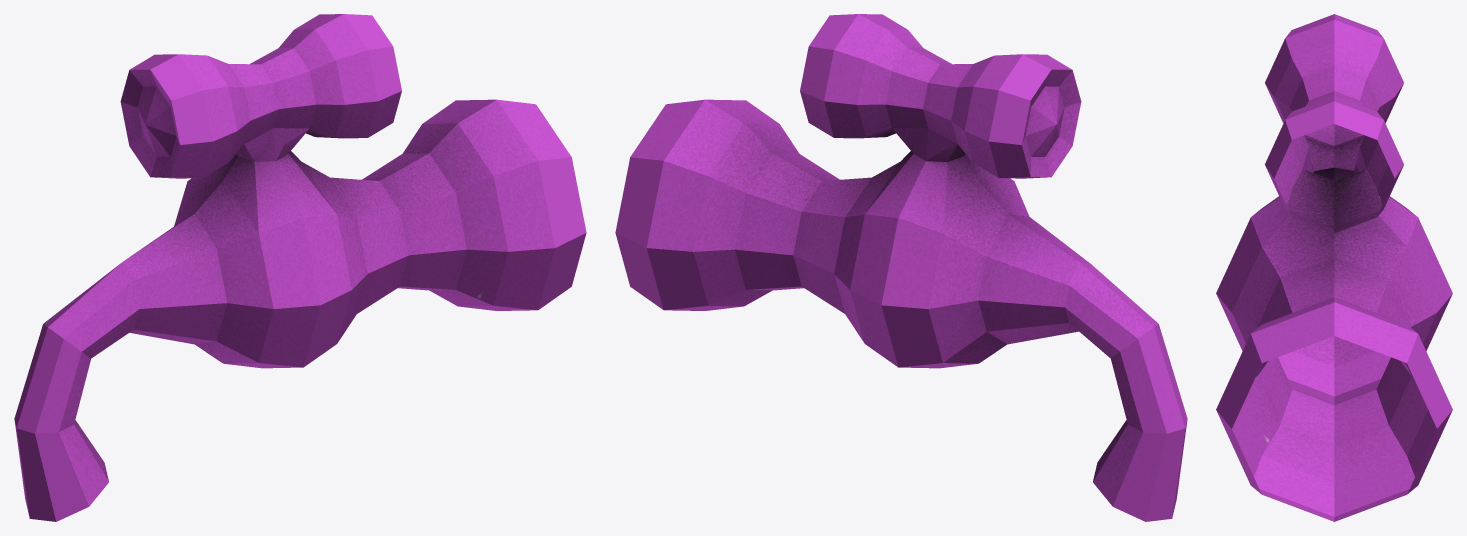
File: BlobGun.fbx
3 views of the same model, side by side, from view 1: azimuth 30°, elevation 25°; view 2: azimuth 150°, elevation 25°; view 3: azimuth 270°, elevation 25° (orthographic).
Visible parts, largest first — view 1: Torus; view 2: Torus; view 3: Torus.
Part boxes in pixels (x1,y1,x2,y2): Torus: [14, 14, 586, 521]; Torus: [615, 14, 1187, 521]; Torus: [1216, 14, 1452, 521].
Bounding box in the file's own units: 514 × 405 × 200.
